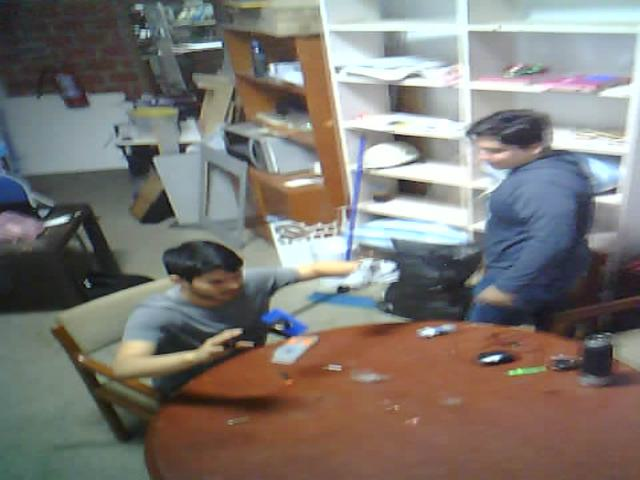person: (82, 211, 384, 412), (419, 49, 614, 349)
